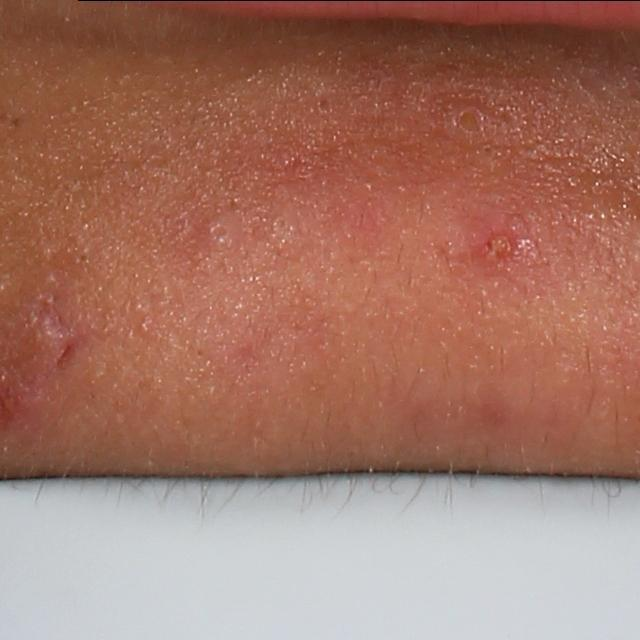comedo: (311, 90, 341, 118)
